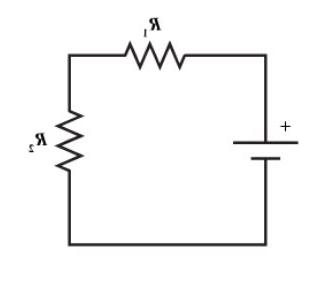resistor: (112, 39, 192, 78), (51, 100, 89, 181)
